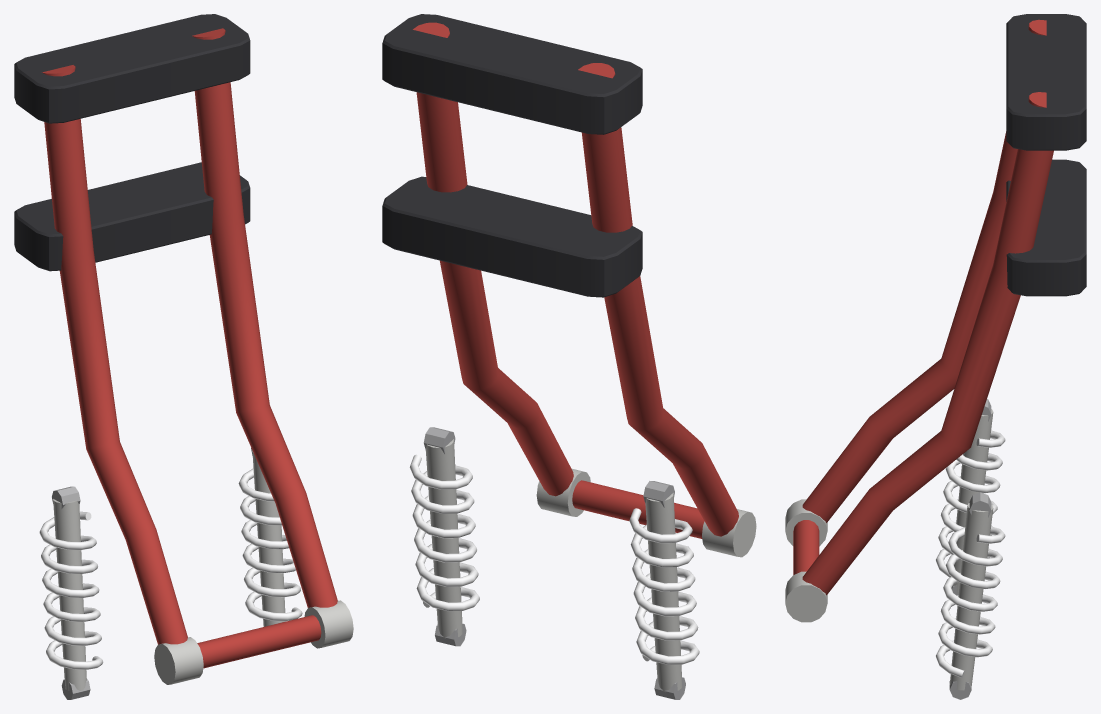
Rendered from classic_earles_upper.glb.
The picture shows the model from 3 angles, left to right: view 1: azimuth 30°, elevation 25°; view 2: azimuth 150°, elevation 25°; view 3: azimuth 270°, elevation 25°; orthographic projection. The views are drawn at different scales.
Parts seen in each view (by area): view 1: lod0; view 2: lod0; view 3: lod0.
Part boxes in pixels (x1,y1,x2,y2): lod0: (14,14,353,699); lod0: (382,14,756,699); lod0: (785,14,1086,699).
Size of what is drawn, in the model's own units: 0.282 by 0.6443 by 0.3.
